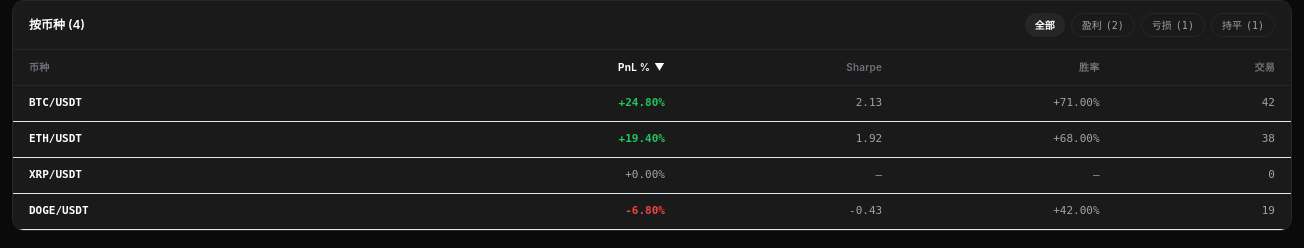
Test: PerSymbolTable — sorting › clicking PnL header twice flips direction
// Default desc (▼).  Click once → asc.
Click the button "PnL % ▼": (560, 68) [456, 60, 665, 75]
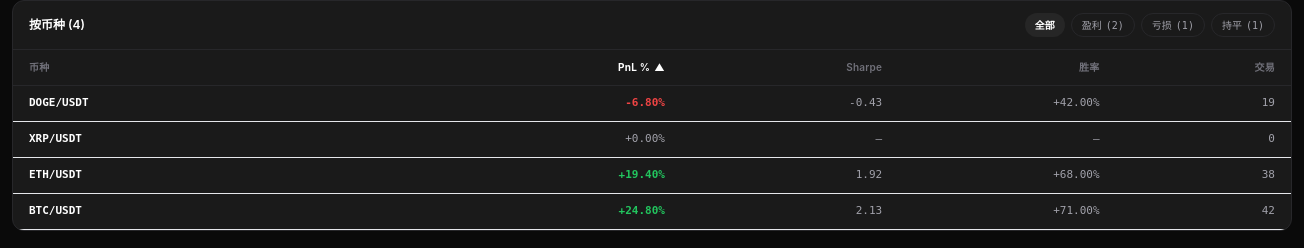
Check: the text "▲" is shown, box [654, 60, 665, 75]
